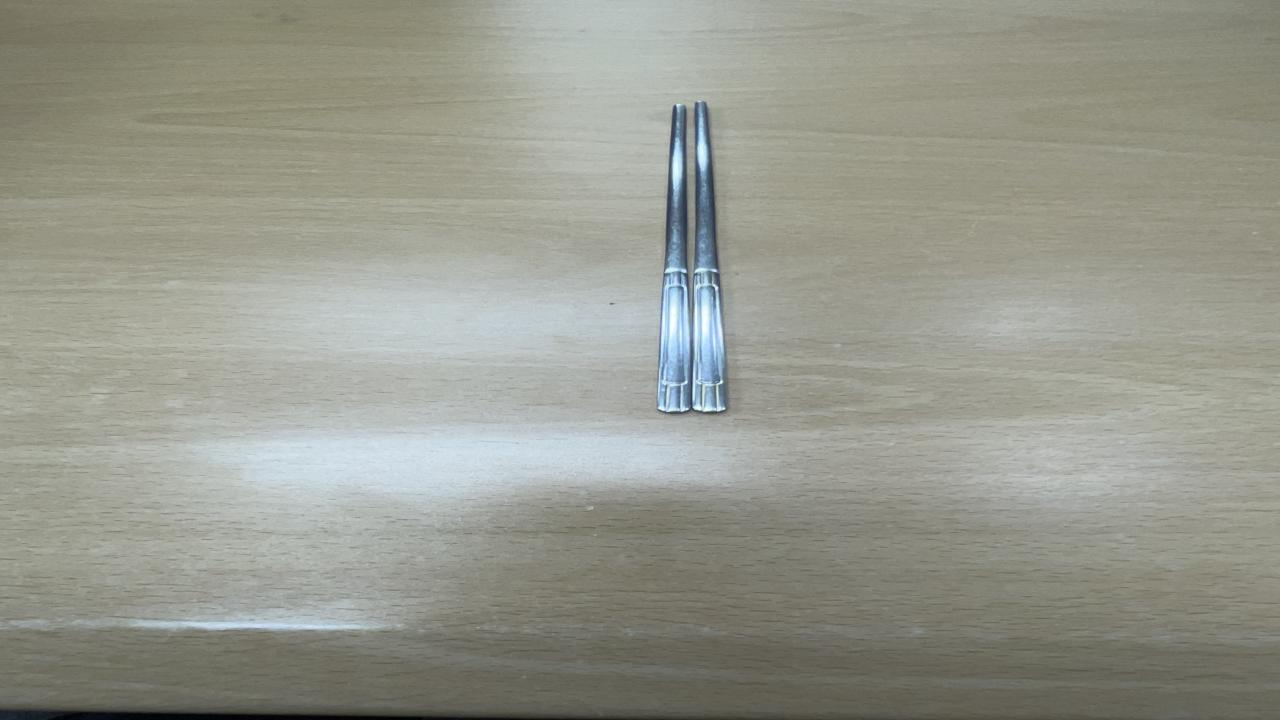chopstick: (658, 103, 726, 412)
